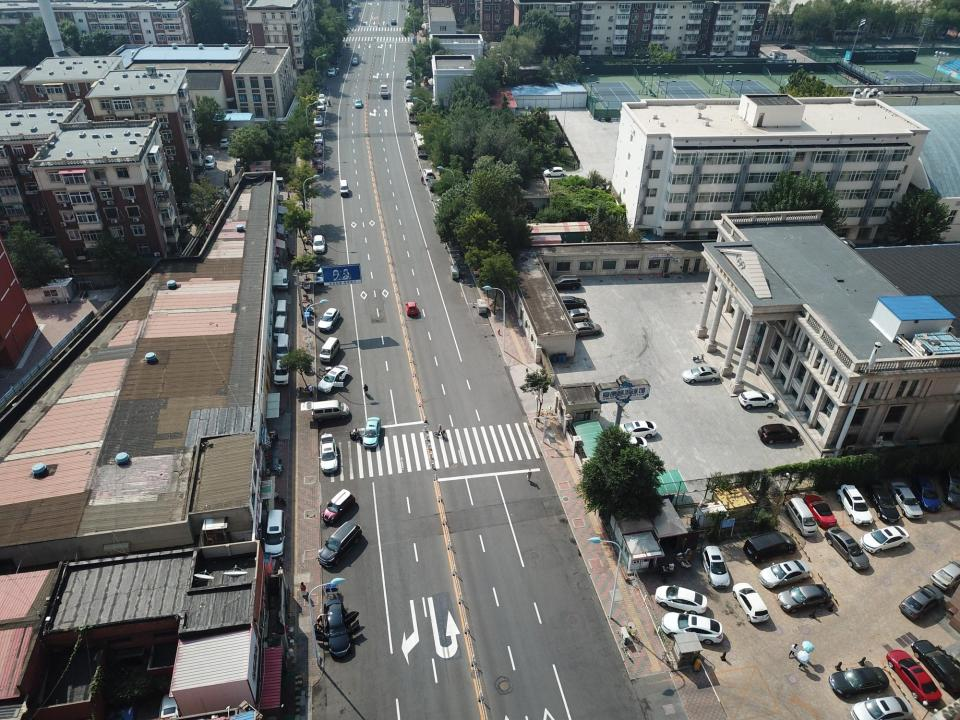bus: (829, 29, 867, 42), (414, 136, 429, 156), (405, 102, 418, 122), (333, 40, 344, 56)
car: (886, 650, 942, 706), (312, 599, 360, 657), (910, 639, 960, 692), (661, 610, 723, 644), (317, 522, 362, 567), (824, 527, 870, 570), (828, 667, 889, 697), (655, 584, 707, 616), (898, 584, 944, 620), (778, 584, 832, 614), (836, 484, 874, 525), (732, 582, 770, 622), (759, 559, 810, 588), (865, 482, 900, 524), (851, 696, 912, 720), (860, 526, 909, 554), (700, 545, 730, 588), (889, 482, 923, 519), (262, 509, 285, 558), (322, 488, 355, 522), (803, 495, 837, 527), (910, 476, 940, 512), (930, 560, 960, 590), (757, 424, 800, 444), (318, 365, 349, 392), (939, 470, 960, 508), (615, 421, 657, 439), (320, 433, 338, 473), (738, 390, 775, 409), (682, 366, 720, 383), (612, 436, 647, 454), (362, 417, 381, 448), (318, 308, 340, 331), (555, 296, 586, 312), (548, 275, 581, 290), (558, 308, 589, 323), (571, 322, 601, 336), (273, 359, 289, 385), (315, 266, 328, 285), (543, 167, 566, 177), (313, 235, 324, 253), (405, 302, 418, 315), (312, 158, 323, 172), (423, 168, 434, 180), (204, 156, 214, 168), (312, 144, 322, 156), (314, 132, 322, 146), (428, 178, 438, 188), (220, 138, 231, 147), (779, 44, 795, 50), (875, 34, 891, 40), (908, 34, 923, 40), (413, 132, 421, 143), (314, 115, 322, 126), (932, 34, 946, 40), (354, 98, 362, 108), (318, 94, 326, 104), (316, 100, 324, 110), (404, 74, 414, 81), (351, 57, 359, 65), (405, 95, 413, 103), (328, 67, 335, 76), (406, 80, 413, 88), (331, 56, 338, 63), (390, 19, 397, 24)
truck: (380, 84, 388, 98)
van: (743, 530, 797, 562), (784, 496, 817, 536), (300, 401, 348, 422), (320, 337, 340, 363), (275, 334, 290, 360), (274, 316, 286, 340), (263, 177, 285, 189), (276, 269, 289, 289), (276, 300, 288, 321), (339, 180, 349, 196)
